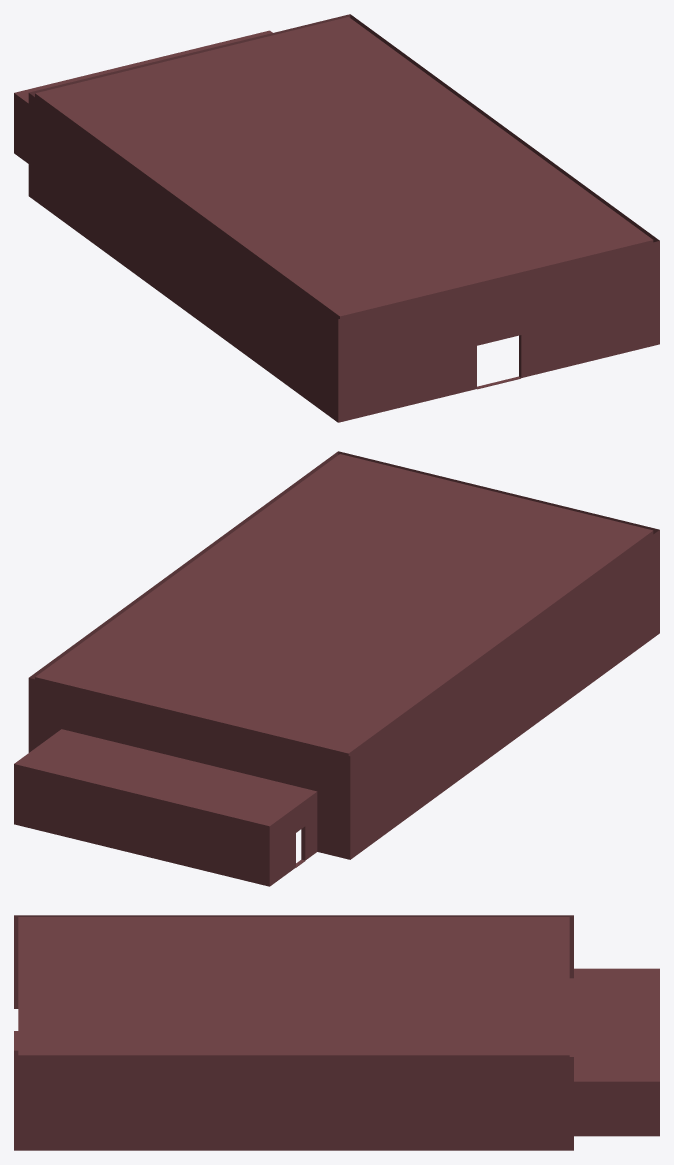
Rendered from Gym.fbx.
3 renders of one model, top to bottom at view 1: azimuth 30°, elevation 25°; view 2: azimuth 150°, elevation 25°; view 3: azimuth 270°, elevation 25°, orthographic. The views are drawn at different scales.
Parts seen in each view (by area): view 1: Plane.063, Plane.057; view 2: Plane.063, Plane.057; view 3: Plane.063, Plane.057.
Boxes of the visible parts, bbox=[...] form: Plane.063: bbox=[35, 17, 652, 316]; Plane.057: bbox=[14, 14, 659, 422]; Plane.063: bbox=[35, 454, 652, 753]; Plane.057: bbox=[14, 451, 659, 886]; Plane.063: bbox=[18, 917, 569, 1055]; Plane.057: bbox=[14, 915, 659, 1150].
Size of the model in its own units: 19.5 by 6.03 by 37.5.
